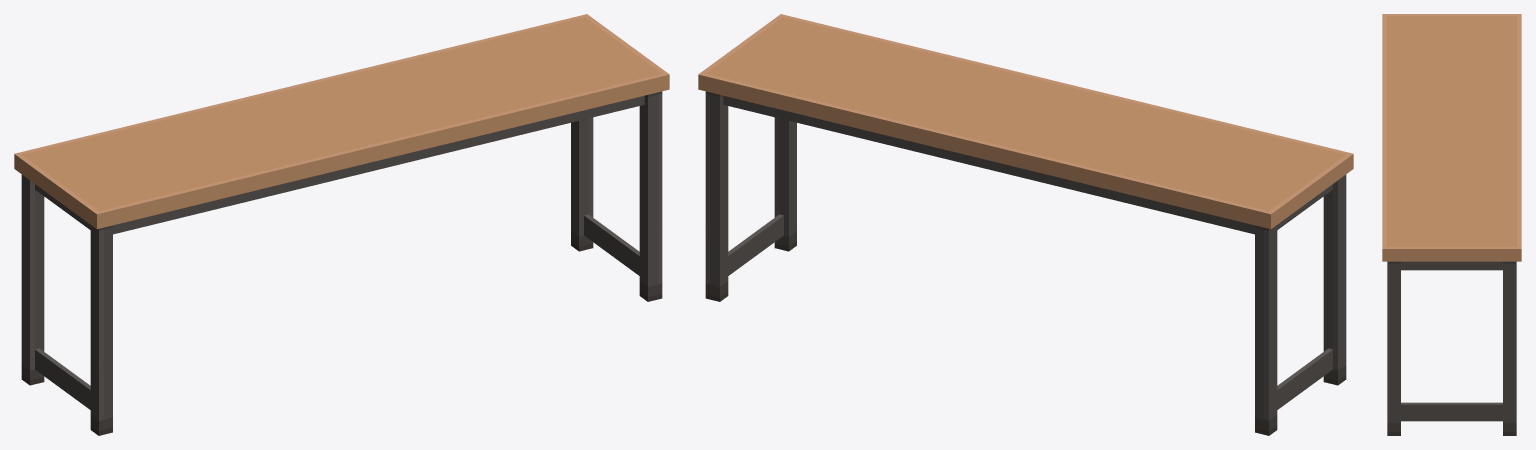
File: deskLong.glb
3 renders of one model, left to right at view 1: azimuth 30°, elevation 25°; view 2: azimuth 150°, elevation 25°; view 3: azimuth 270°, elevation 25°, orthographic. The views are drawn at different scales.
Parts seen in each view (by area): view 1: desk_long; view 2: desk_long; view 3: desk_long.
Boxes of the visible parts, <box> form: desk_long: <box>14,14,669,435</box>; desk_long: <box>698,14,1353,435</box>; desk_long: <box>1382,14,1521,435</box>.
Bounding box in the file's own units: 2 × 0.75 × 0.5.
1 material, 1 textured.
